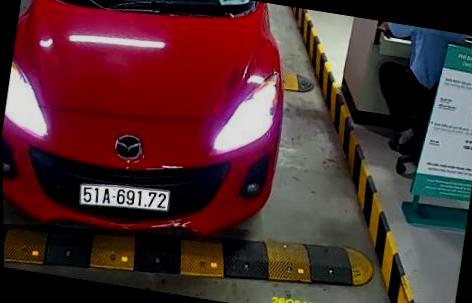License_Plate: (78, 176, 173, 218)
